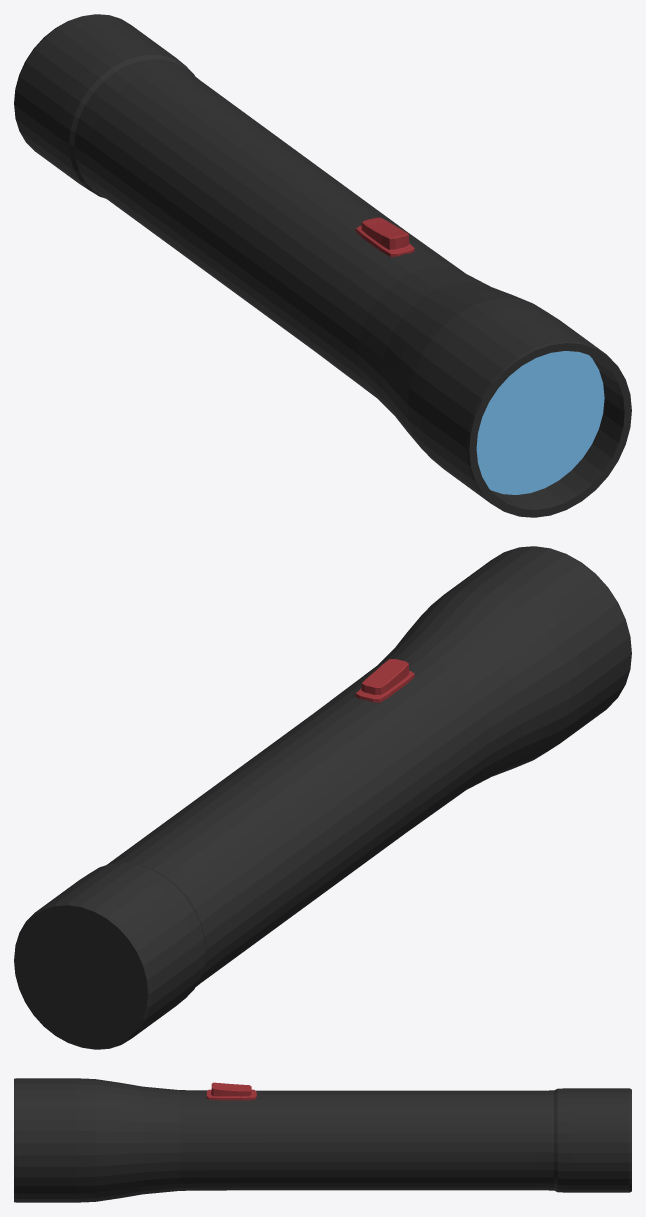
Rendered from flashlight.glb.
3 views of the same model, one above another, from view 1: azimuth 30°, elevation 25°; view 2: azimuth 150°, elevation 25°; view 3: azimuth 270°, elevation 25° (orthographic). The views are drawn at different scales.
Parts seen in each view (by area): view 1: flashlight, lens, switch; view 2: flashlight, switch; view 3: flashlight, switch.
Part boxes in pixels (left/top/right/bottom): flashlight: left=14, top=14, right=631, bottom=517; lens: left=476, top=351, right=604, bottom=494; switch: left=355, top=217, right=414, bottom=256; flashlight: left=14, top=546, right=631, bottom=1049; switch: left=355, top=659, right=414, bottom=702; flashlight: left=14, top=1078, right=631, bottom=1202; switch: left=206, top=1082, right=256, bottom=1100.
Bounding box in the file's own units: 2.48 × 2.48 × 12.35.
